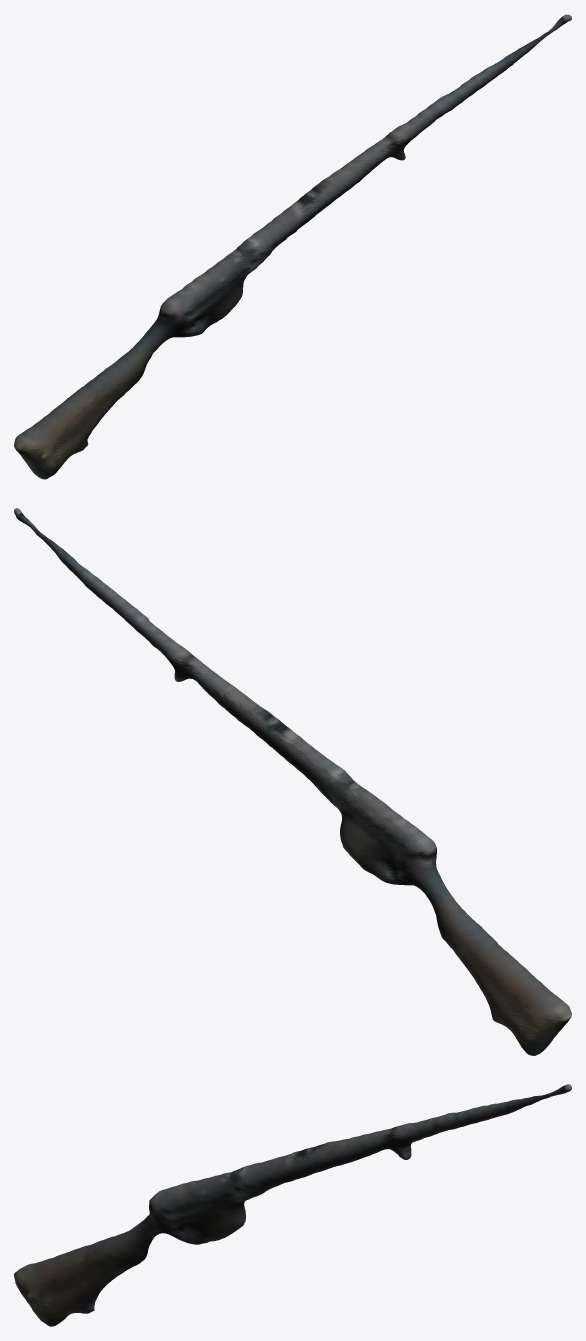
The model's file is kfl-2214.glb.
3 views of the same model, one above another, from view 1: azimuth 30°, elevation 25°; view 2: azimuth 150°, elevation 25°; view 3: azimuth 330°, elevation 25° (orthographic). The views are drawn at different scales.
Parts seen in each view (by area): view 1: geometry_0; view 2: geometry_0; view 3: geometry_0.
Part boxes in pixels (x1,y1,x2,y2): geometry_0: [14, 14, 571, 479]; geometry_0: [14, 508, 571, 1055]; geometry_0: [14, 1084, 571, 1326].
Bounding box in the file's own units: 0.9822 × 0.6354 × 0.11.
Materials: 1 (1 with a texture image).
